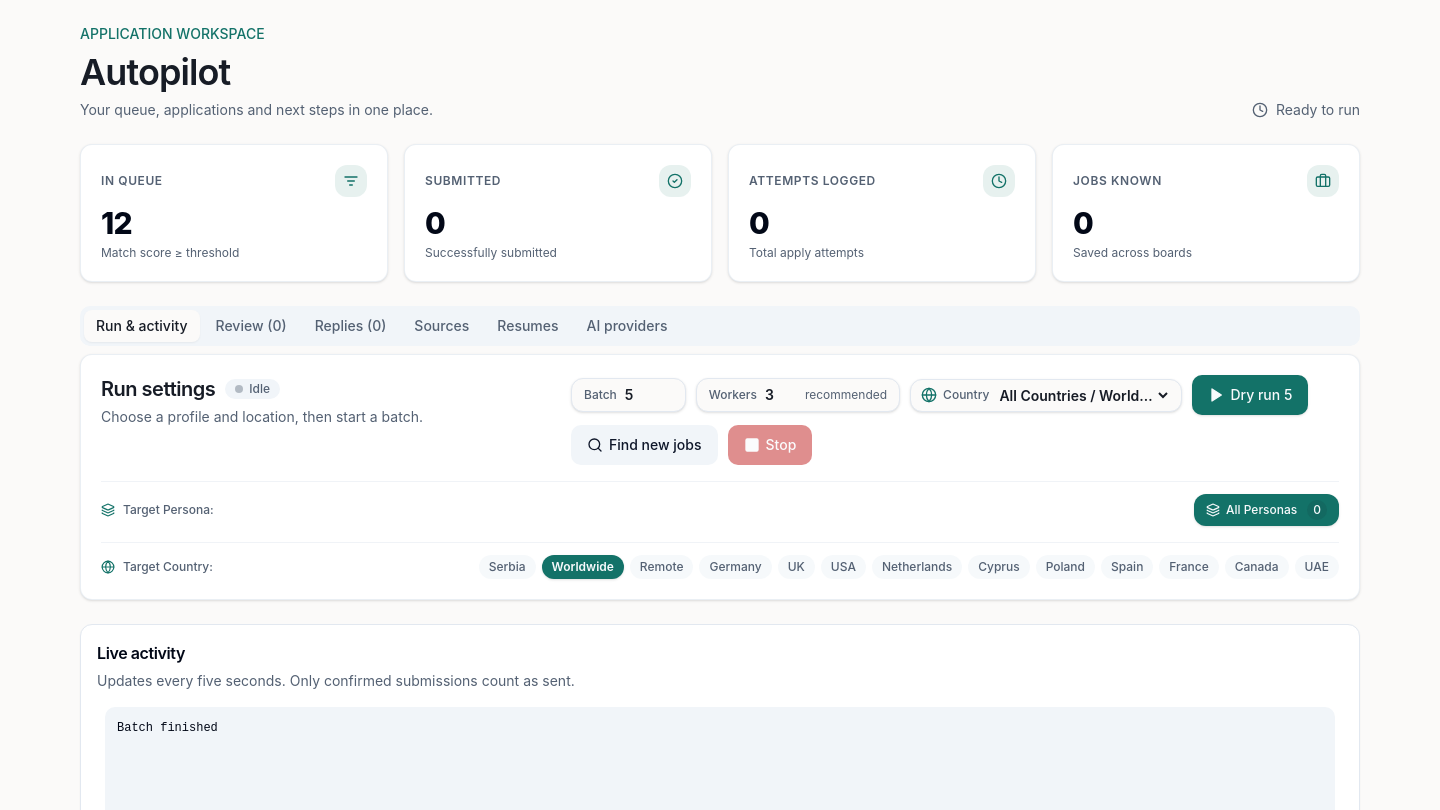
keeps run controls separate from resume and provider settings
Expected: the text "Ready to run" is shown, left=1252, top=100, right=1360, bottom=120
Expected: the button "Stop" is disabled, left=728, top=425, right=812, bottom=465
Click the tab "Resumes". click: (528, 326)
box: left=485, top=310, right=571, bottom=342
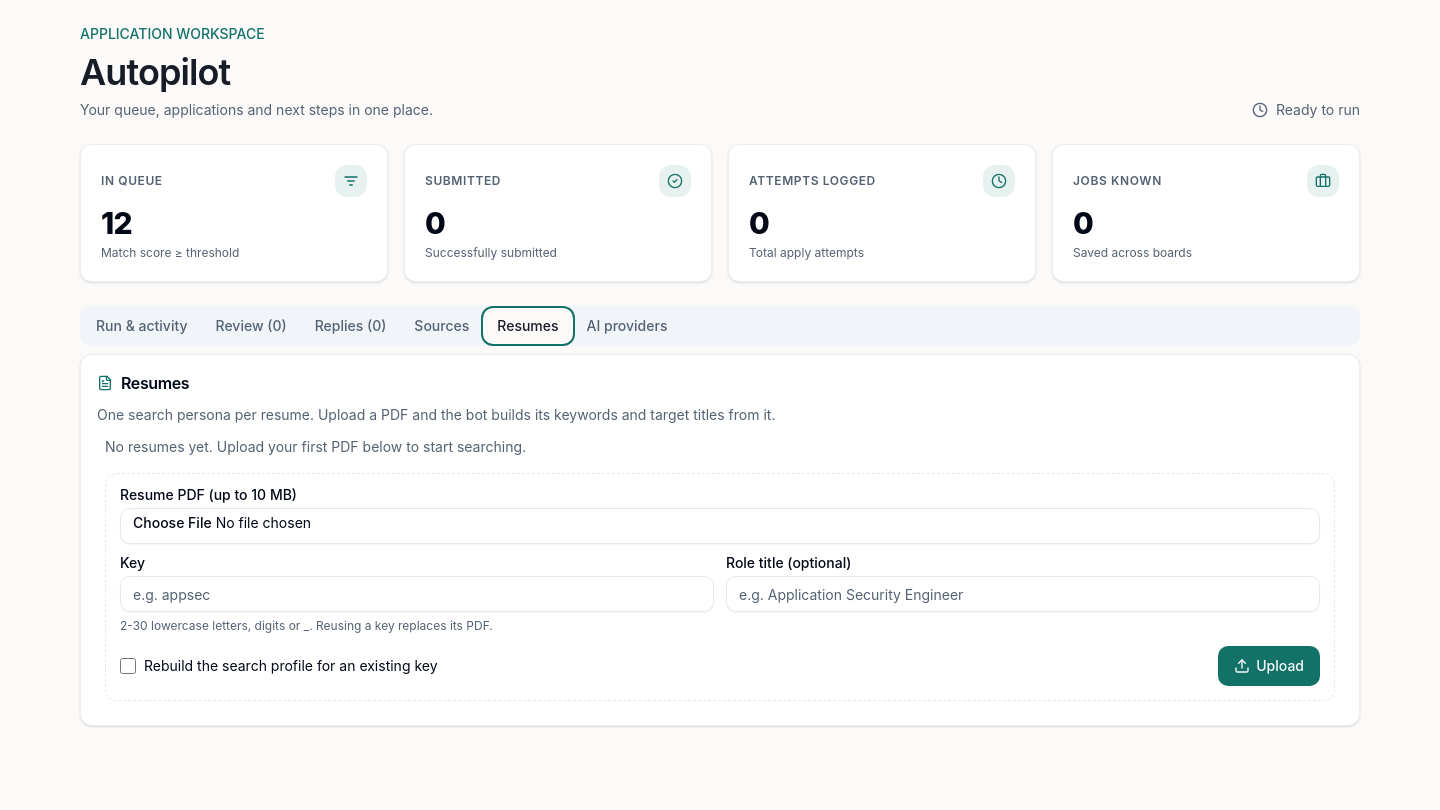
Result: the file field labelled "Resume PDF (up to 10 MB)" is shown at left=120, top=508, right=1320, bottom=544
Result: the button "Dry run 5" is gone
Click the tab "Run & activity". click: (142, 326)
box: left=84, top=310, right=200, bottom=342
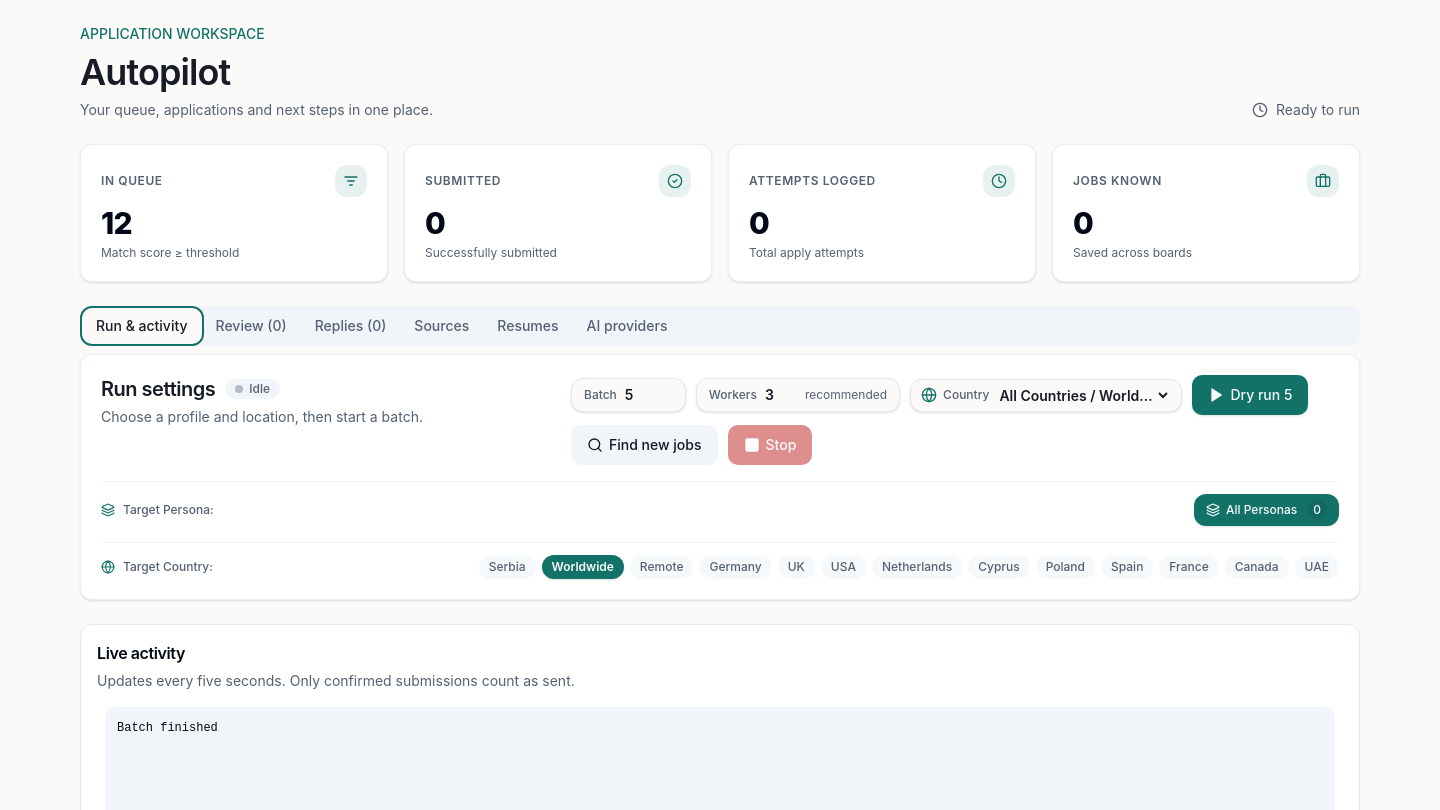
Result: the button "Dry run 5" is shown at left=1192, top=375, right=1308, bottom=415
